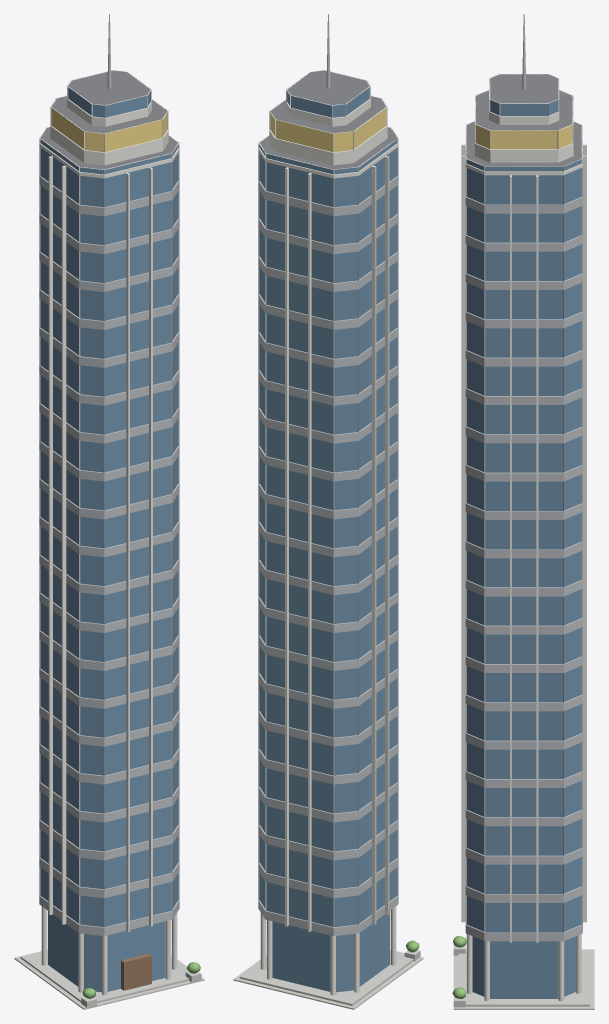
The picture shows the model from 3 angles, left to right: view 1: azimuth 30°, elevation 25°; view 2: azimuth 150°, elevation 25°; view 3: azimuth 270°, elevation 25°; orthographic projection.
Visible parts, largest first — view 1: c_3_1_d; view 2: c_3_1_d; view 3: c_3_1_d.
Boxes of the visible parts, <box> form: c_3_1_d: <box>14,14,204,1009</box>; c_3_1_d: <box>233,14,423,1009</box>; c_3_1_d: <box>452,14,594,1009</box>.
Bounding box in the file's own units: 12 × 90.8 × 12.12.
